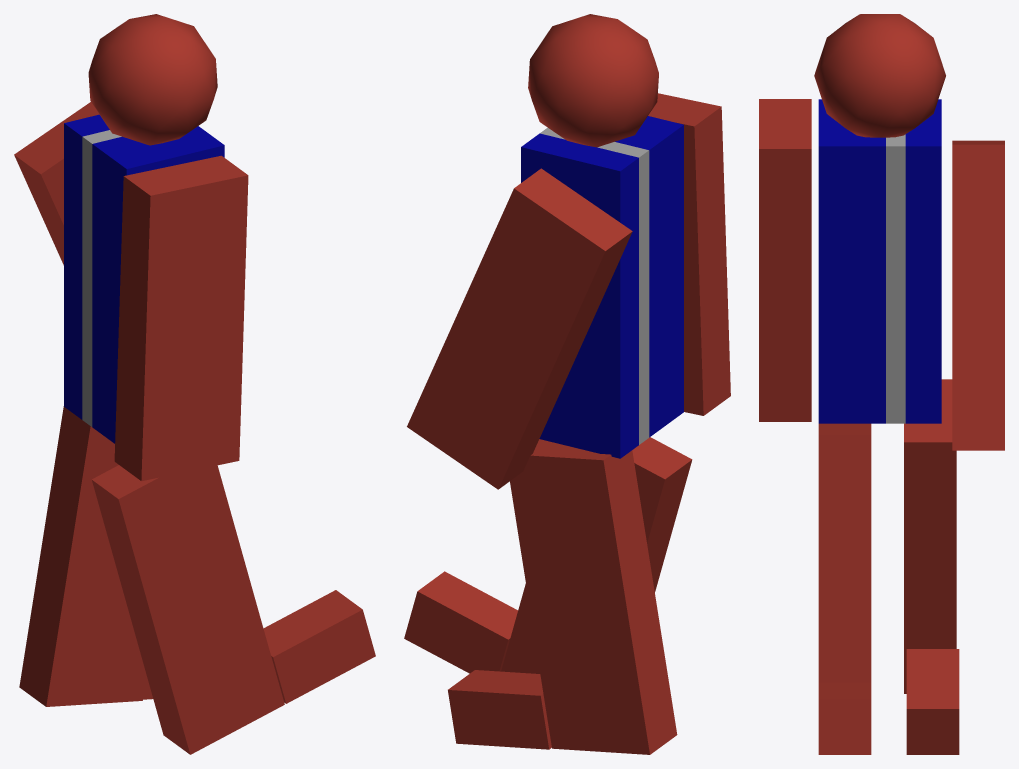
File: player_000036.obj
3 renders of one model, left to right at view 1: azimuth 30°, elevation 25°; view 2: azimuth 150°, elevation 25°; view 3: azimuth 270°, elevation 25°, orthographic. The views are drawn at different scales.
Visible parts, largest first — view 1: Cube.005, Cube.001, Cube.002, Cube, Icosphere, Cube.003, Cube.006; view 2: Cube.002, Cube.006, Cube, Cube.005, Icosphere, Cube.003, Cube.004, Cube.001; view 3: Cube, Cube.005, Cube.006, Cube.001, Icosphere, Cube.002, Cube.004, Cube.003.
Part boxes in pixels (x1,y1,x2,y2): Cube.005: [114, 155, 248, 481]; Cube.001: [91, 465, 284, 754]; Cube.002: [19, 406, 146, 706]; Cube: [64, 114, 224, 443]; Icosphere: [88, 14, 217, 145]; Cube.003: [263, 590, 375, 703]; Cube.006: [14, 102, 99, 265]; Cube.002: [510, 439, 677, 754]; Cube.006: [407, 168, 632, 489]; Cube: [521, 116, 683, 458]; Cube.005: [648, 93, 730, 415]; Icosphere: [528, 14, 658, 147]; Cube.003: [404, 571, 517, 673]; Cube.004: [448, 670, 551, 749]; Cube.001: [501, 437, 692, 673]; Cube: [818, 99, 941, 423]; Cube.005: [759, 99, 811, 421]; Cube.006: [952, 140, 1004, 450]; Cube.001: [818, 423, 871, 682]; Icosphere: [814, 14, 945, 137]; Cube.002: [904, 379, 956, 693]; Cube.004: [906, 649, 959, 754]; Cube.003: [818, 682, 871, 754].
Size of the model in its own units: 1.2 by 2.86 by 0.9137.
